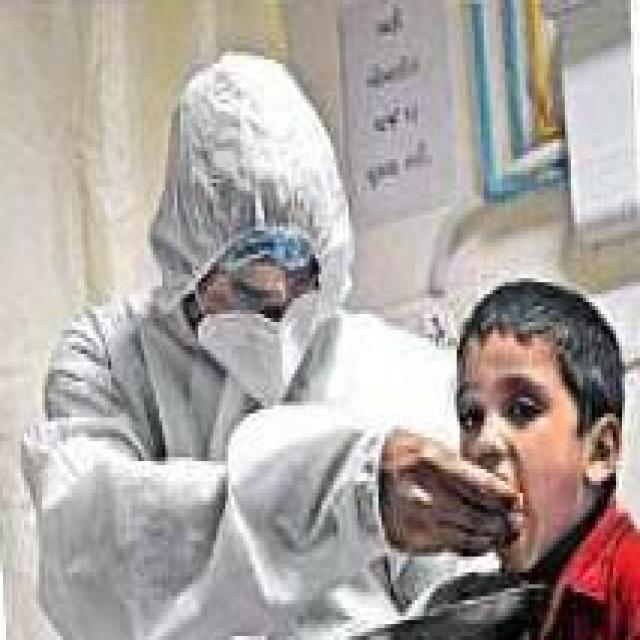Coverall: (18, 59, 471, 640)
Mask: (193, 279, 334, 418)
